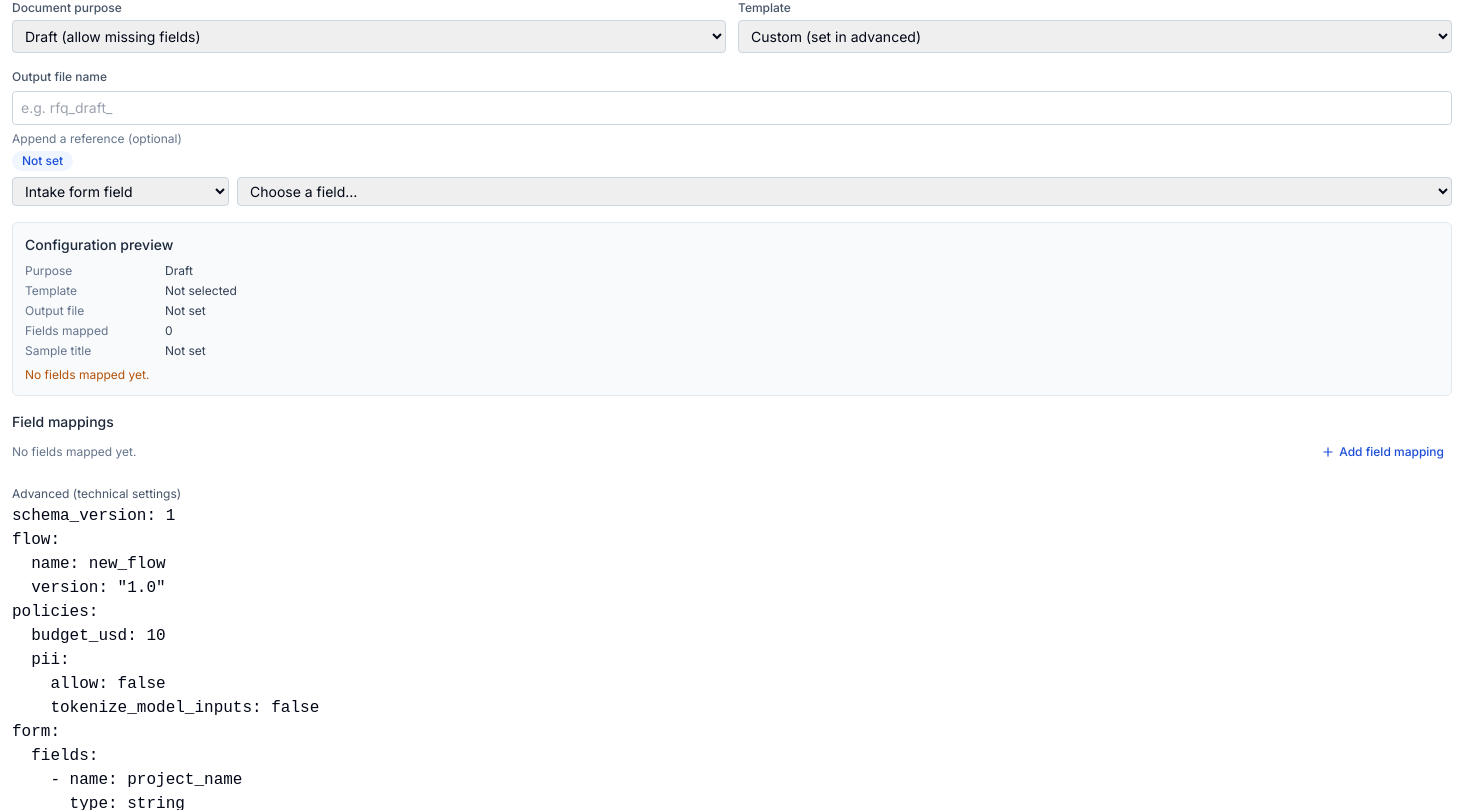
it: DocumentGenerationEditor › maps a form field through the binding picker and compiles to valid YAML params
The image size is (1464, 810).
Click the button "Add field mapping". click: [1383, 452]
box: [1313,440,1452,464]
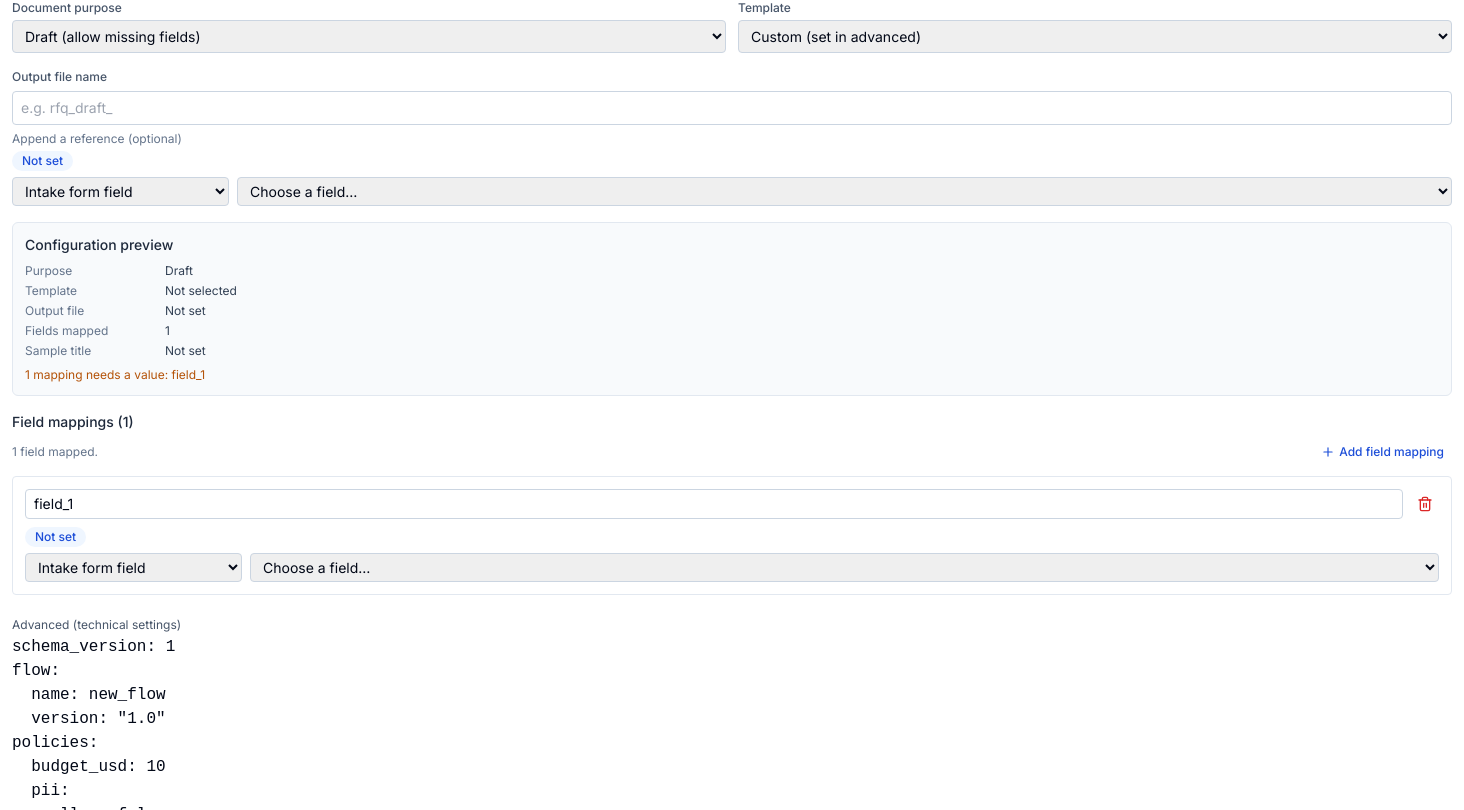
Replace the text in the field named "field name for mapping 1" with "title_system_name". click: [714, 504]
box: [25,489,1403,519]
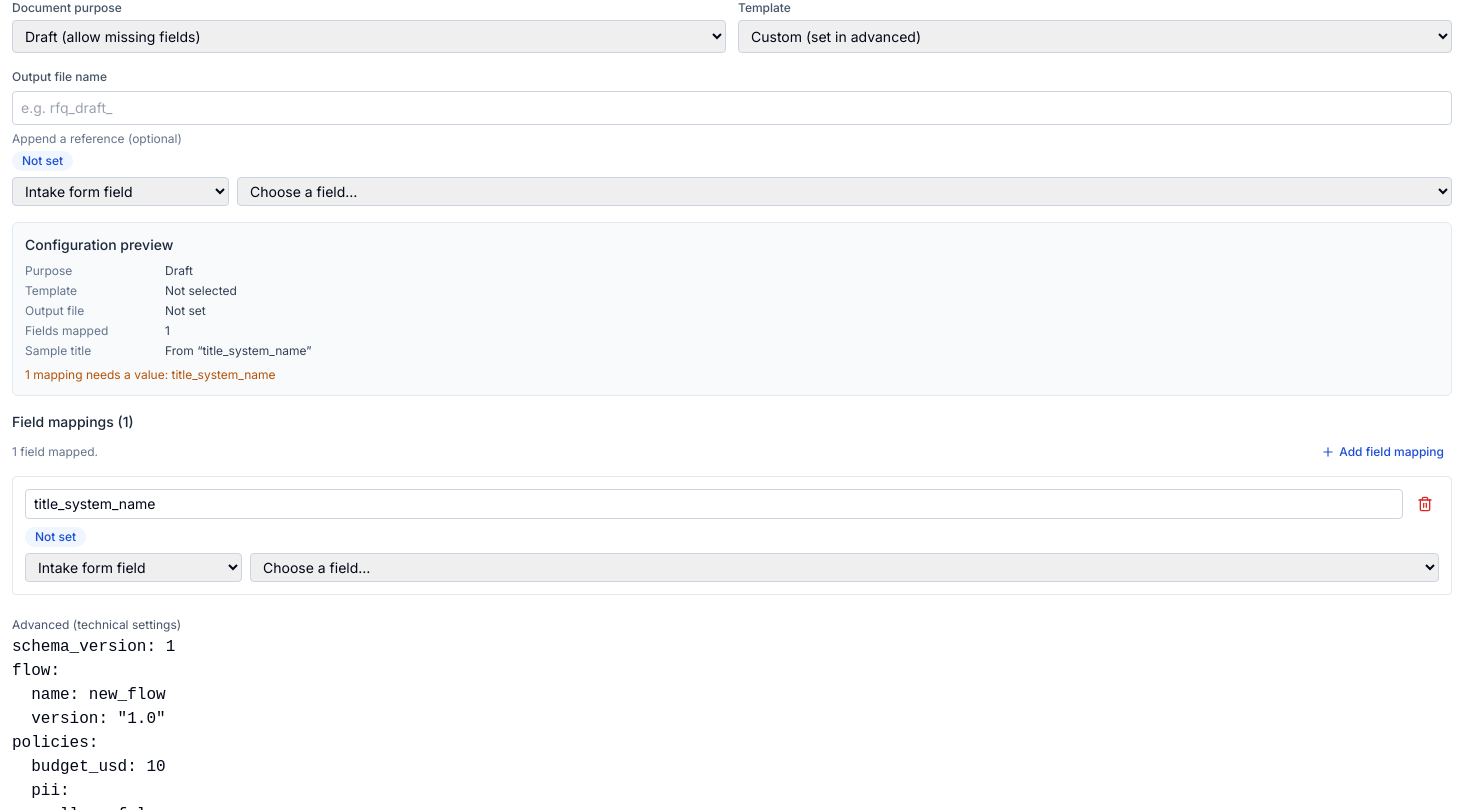
Select "Intake form field" in the dropdown named "source for mapping 1". click: [134, 568]
box: [25,553,242,582]
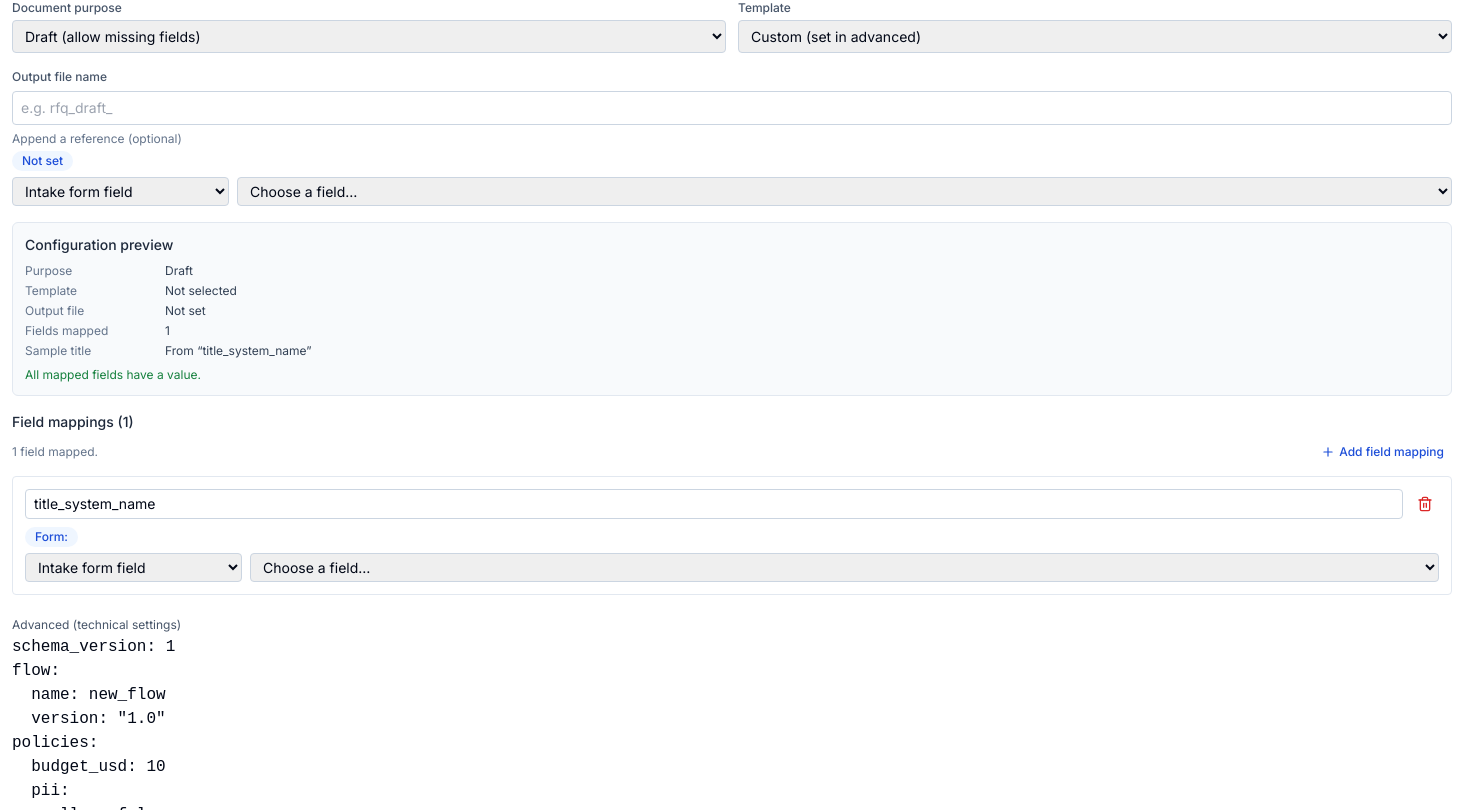
Select "Project name" in the dropdown named "form field for mapping 1". click: [844, 568]
box: [250,553,1439,582]
(page scrolled)
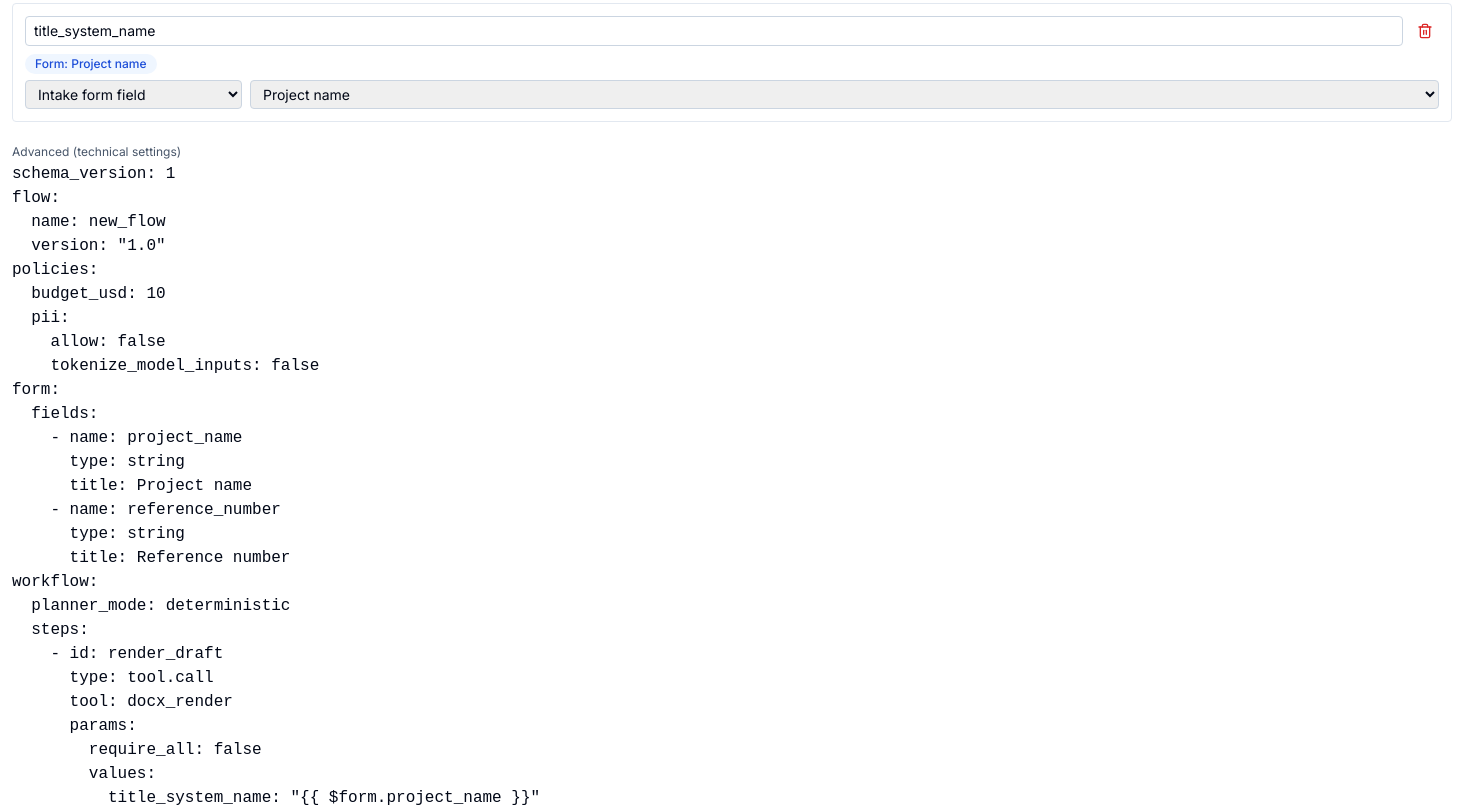
Expected: the text with test id "yaml" shows "title_system_name: \"{{ $form.project_name }}\"", [12,165,540,807]
